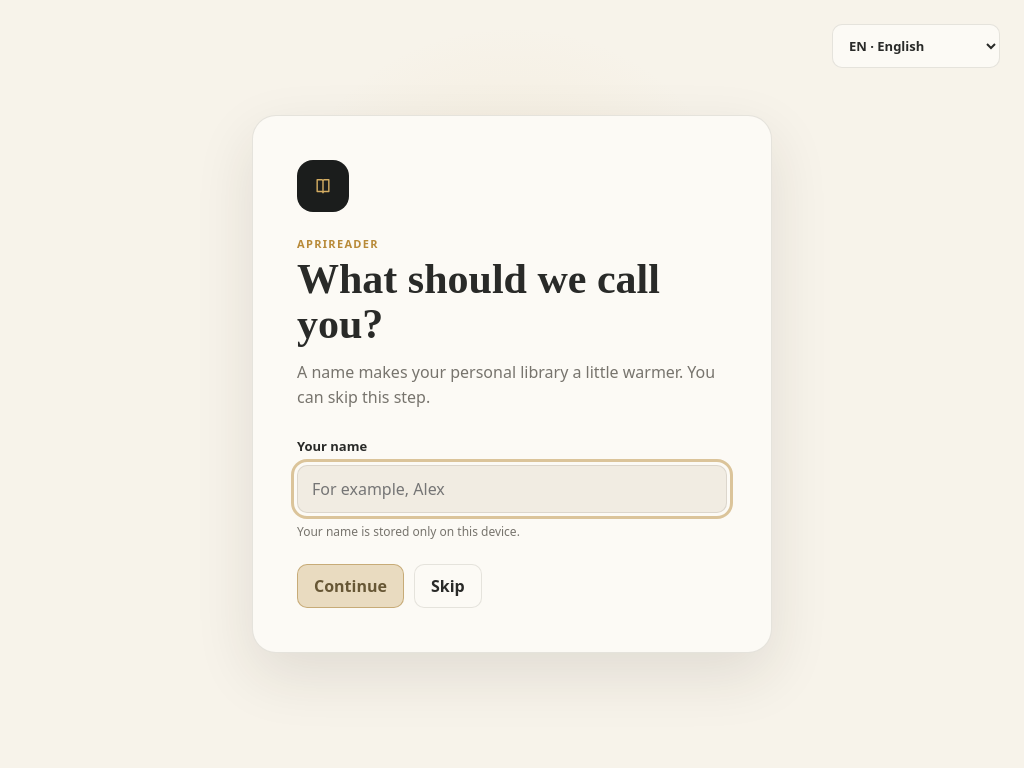
App › allows first-launch onboarding to be skipped
The image size is (1024, 768).
Step 1. Click the button "Skip" → (448, 586), box 414,564 -> 482,608
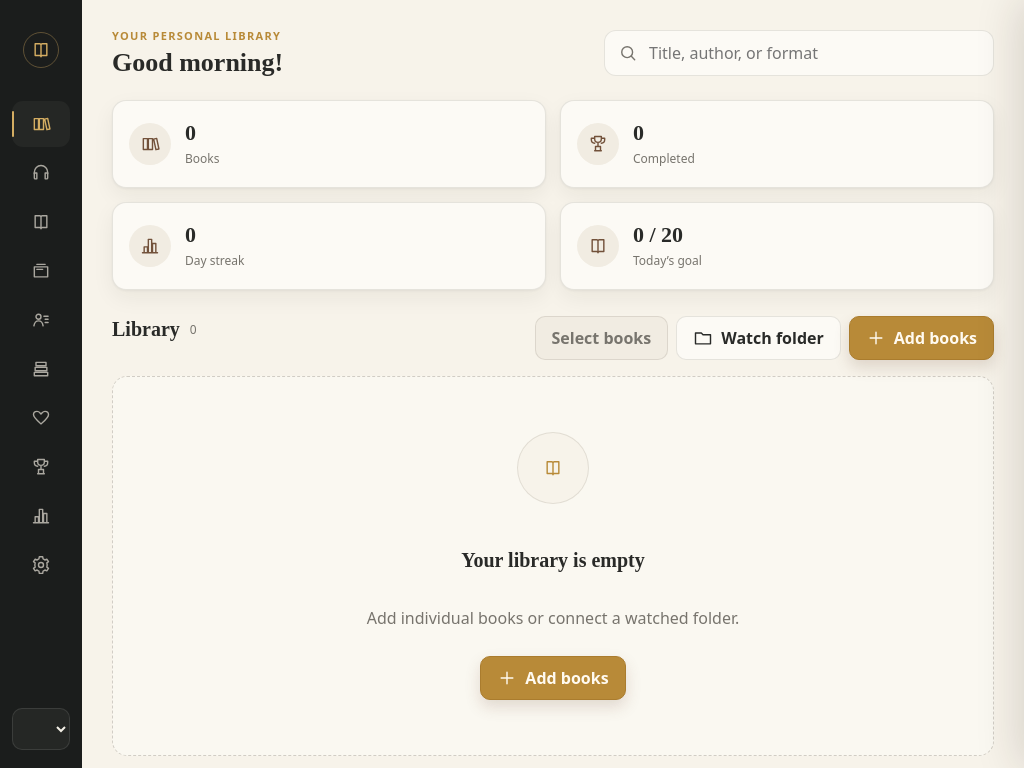
expect the search field is shown: met, box 604,30 -> 994,76
